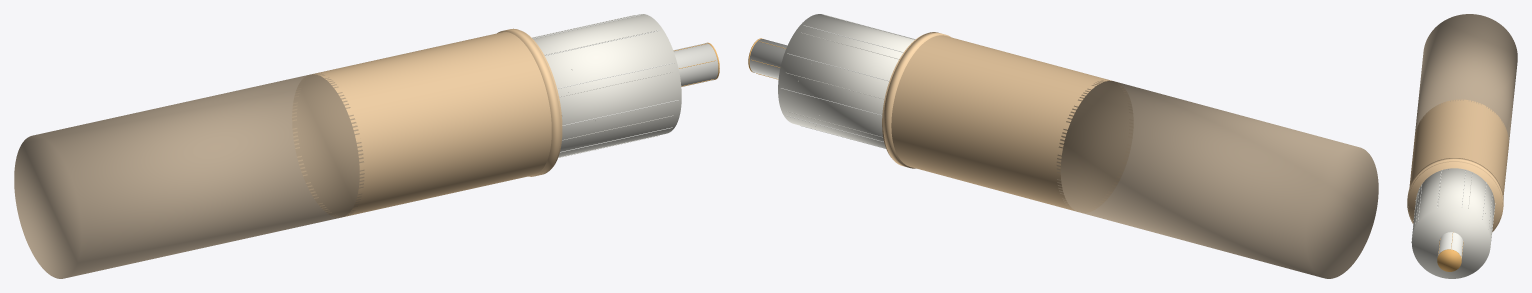
File: rf-ut141-macro.glb
The picture shows the model from 3 angles, left to right: view 1: azimuth 30°, elevation 25°; view 2: azimuth 150°, elevation 25°; view 3: azimuth 270°, elevation 25°; orthographic projection. The views are drawn at different scales.
Parts seen in each view (by area): view 1: thin FEP rear jacket, macro semi rigid tube shield, macro PTFE dielectric core, semi rigid tube cut rim, polished solid center conductor; view 2: thin FEP rear jacket, macro semi rigid tube shield, macro PTFE dielectric core, semi rigid tube cut rim, polished solid center conductor; view 3: thin FEP rear jacket, macro PTFE dielectric core, macro semi rigid tube shield, semi rigid tube cut rim, polished conductor cut face glow, polished solid center conductor.
Part boxes in pixels (bbox=[...]): thin FEP rear jacket: bbox=[14, 73, 364, 278]; macro semi rigid tube shield: bbox=[292, 31, 562, 217]; macro PTFE dielectric core: bbox=[532, 14, 681, 157]; semi rigid tube cut rim: bbox=[497, 28, 560, 176]; polished solid center conductor: bbox=[673, 43, 718, 86]; thin FEP rear jacket: bbox=[1056, 80, 1378, 278]; macro semi rigid tube shield: bbox=[882, 34, 1133, 211]; macro PTFE dielectric core: bbox=[778, 14, 914, 148]; semi rigid tube cut rim: bbox=[883, 32, 950, 168]; polished solid center conductor: bbox=[749, 39, 787, 78]; thin FEP rear jacket: bbox=[1415, 14, 1517, 145]; macro PTFE dielectric core: bbox=[1411, 168, 1494, 278]; macro semi rigid tube shield: bbox=[1408, 99, 1508, 231]; semi rigid tube cut rim: bbox=[1407, 158, 1503, 232]; polished conductor cut face glow: bbox=[1437, 249, 1461, 271]; polished solid center conductor: bbox=[1437, 232, 1463, 258].
Size of the model in its own units: 6.24 by 1.24 by 1.42.
